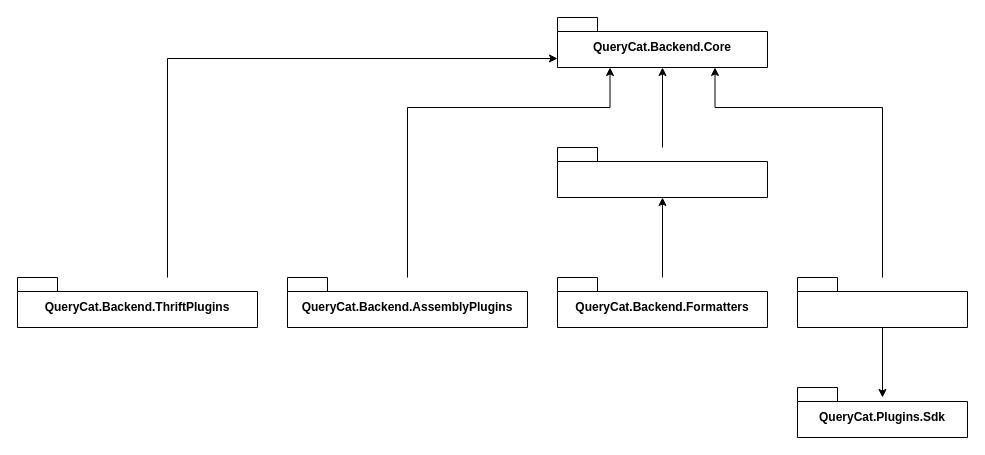
The diagram is 985 pixels wide and 455 high, and some of its shapes have lost their labels. Each missing label, with the centre of its shape:
"QueryCat.Backend" belongs at pixel 662 172.
"QueryCat.Plugins.Client" belongs at pixel 882 302.
